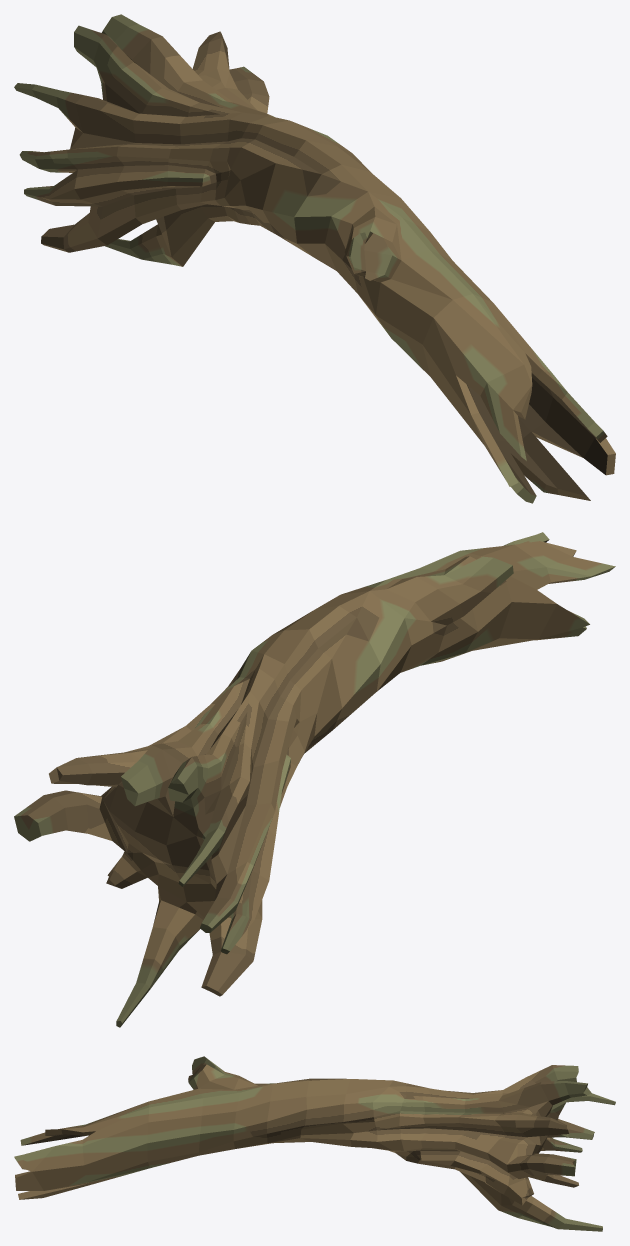
File: SM_Prop_Swamp_Log_01.fbx
3 views of the same model, one above another, from view 1: azimuth 30°, elevation 25°; view 2: azimuth 150°, elevation 25°; view 3: azimuth 270°, elevation 25° (orthographic). The views are drawn at different scales.
Parts seen in each view (by area): view 1: SM_Prop_Swamp_Log_01; view 2: SM_Prop_Swamp_Log_01; view 3: SM_Prop_Swamp_Log_01.
Part boxes in pixels (x1,y1,x2,y2): SM_Prop_Swamp_Log_01: (14, 14, 615, 503); SM_Prop_Swamp_Log_01: (14, 532, 615, 1027); SM_Prop_Swamp_Log_01: (14, 1056, 615, 1231).
Bounding box in the file's own units: 302 × 331 × 1140.
Materials: 1 (1 with a texture image).
